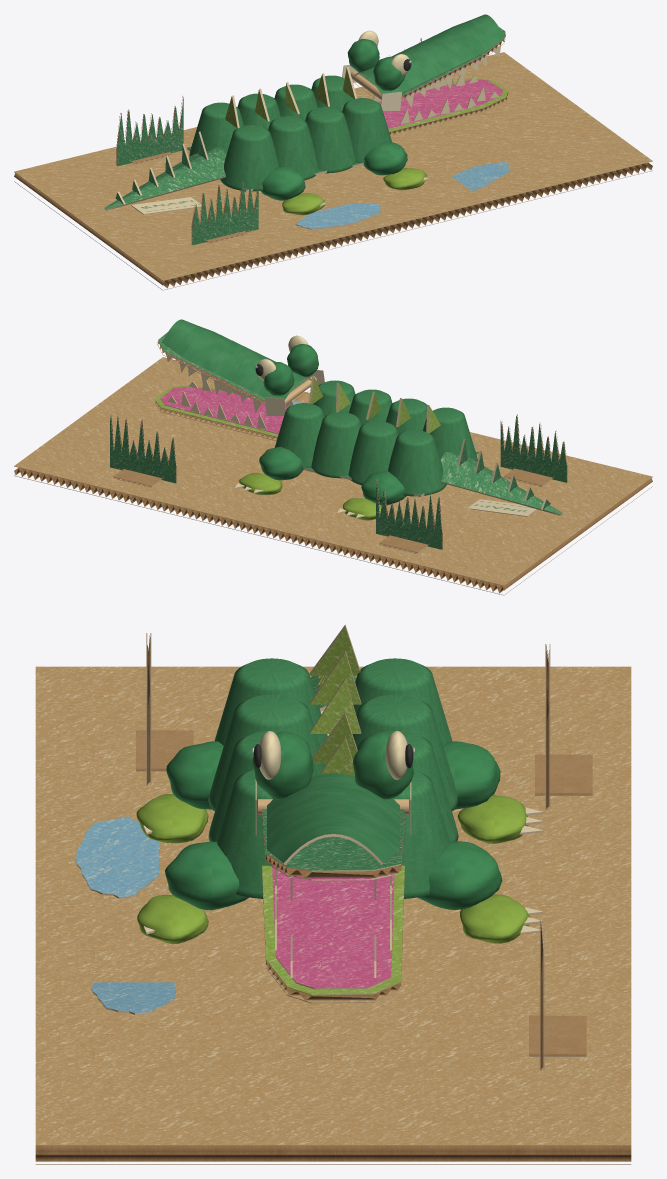
The model's file is 25_egg_carton_crocodile.glb.
3 renders of one model, top to bottom at view 1: azimuth 30°, elevation 25°; view 2: azimuth 150°, elevation 25°; view 3: azimuth 270°, elevation 25°, orthographic. The views are drawn at different scales.
Parts seen in each view (by area): view 1: sand, paint_green, green, flute, edge, clay_green, pink, sky, lime, clay_lime, cream, artwork_25_egg_carton_crocodile (+1 smaller); view 2: sand, paint_green, green, flute, edge, clay_green, pink, lime, clay_lime, kraft, cream, artwork_25_egg_carton_crocodile (+1 smaller); view 3: sand, paint_green, clay_green, flute, pink, clay_lime, lime, edge, sky, kraft, green, clay_cream.
Boxes of the visible parts, left/top/right/bottom form: sand: left=14, top=52, right=652, bottom=280; paint_green: left=187, top=14, right=504, bottom=191; green: left=104, top=27, right=504, bottom=245; flute: left=14, top=32, right=652, bottom=288; edge: left=14, top=31, right=652, bottom=290; clay_green: left=261, top=39, right=407, bottom=200; pink: left=378, top=44, right=502, bottom=128; sky: left=296, top=162, right=509, bottom=228; lime: left=225, top=68, right=507, bottom=131; clay_lime: left=282, top=168, right=426, bottom=215; cream: left=320, top=46, right=500, bottom=205; artwork_25_egg_carton_crocodile: left=132, top=197, right=201, bottom=213; sand: left=14, top=357, right=652, bottom=585; paint_green: left=162, top=319, right=478, bottom=496; green: left=110, top=332, right=566, bottom=549; flute: left=14, top=341, right=652, bottom=593; edge: left=14, top=340, right=652, bottom=595; clay_green: left=259, top=344, right=406, bottom=505; pink: left=160, top=355, right=288, bottom=433; lime: left=155, top=377, right=440, bottom=436; clay_lime: left=239, top=472, right=381, bottom=520; kraft: left=114, top=379, right=552, bottom=552; cream: left=167, top=356, right=364, bottom=517; artwork_25_egg_carton_crocodile: left=468, top=499, right=536, bottom=515; sand: left=35, top=666, right=631, bottom=1144; paint_green: left=208, top=658, right=458, bottom=898; clay_green: left=165, top=731, right=502, bottom=910; flute: left=35, top=635, right=631, bottom=1161; pink: left=272, top=865, right=394, bottom=988; clay_lime: left=136, top=794, right=530, bottom=944; lime: left=262, top=627, right=404, bottom=994; edge: left=35, top=624, right=631, bottom=1164; sky: left=75, top=816, right=175, bottom=1013; kraft: left=136, top=730, right=592, bottom=1053; green: left=262, top=675, right=404, bottom=870; clay_cream: left=259, top=731, right=407, bottom=779.
Size of the model in its own units: 0.57 by 0.1356 by 0.3.
18 materials, 16 textured.
